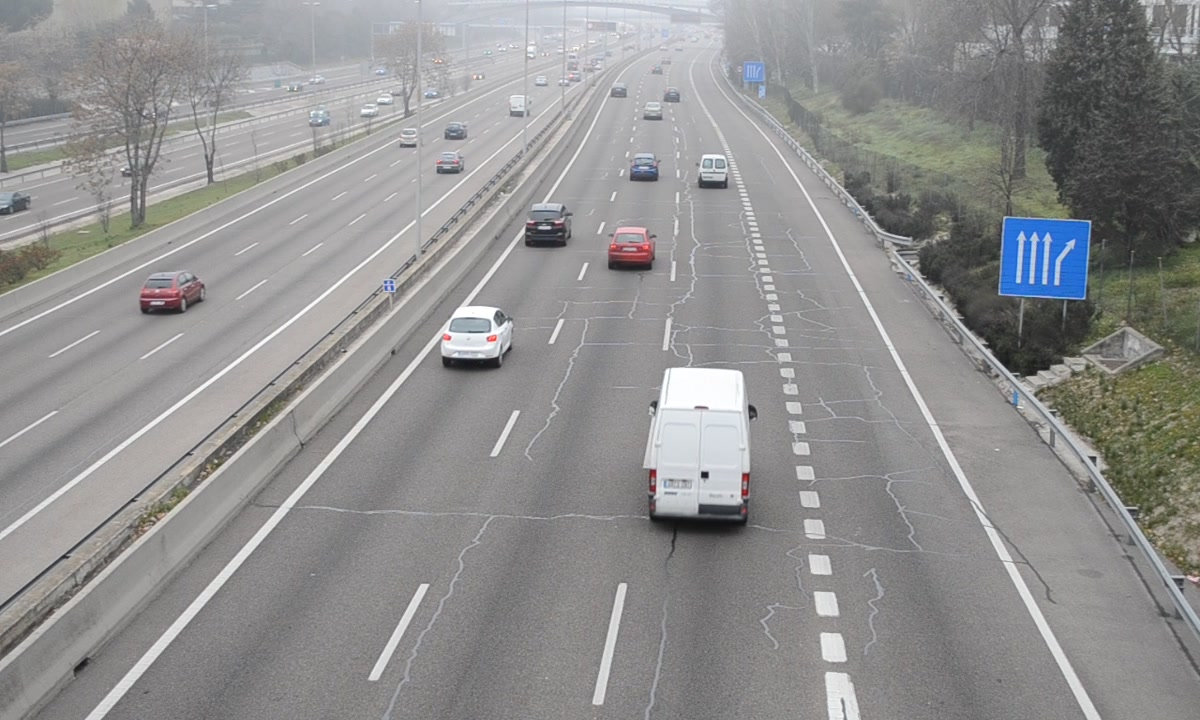car: (441, 305, 510, 361), (525, 203, 571, 246), (608, 227, 653, 270), (629, 153, 660, 180)
van: (650, 367, 752, 526), (698, 154, 730, 190)
